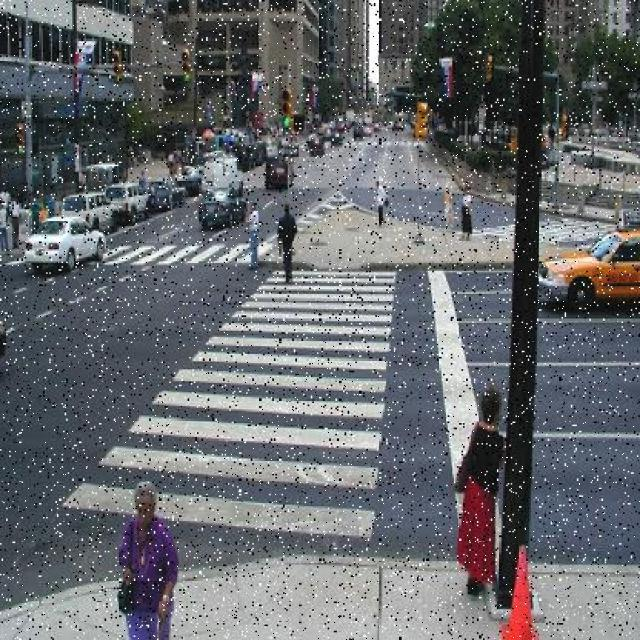Pedestrian crosswalk: (43, 249, 414, 569), (44, 231, 278, 287), (326, 137, 434, 157)
